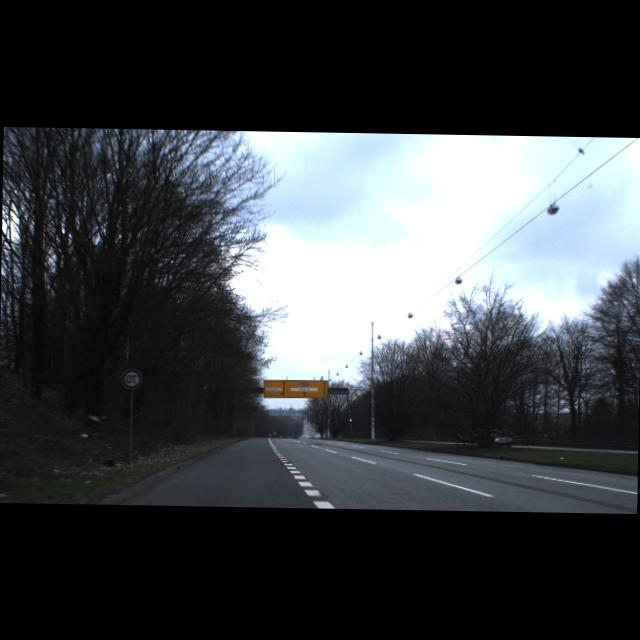prohibitory: (121, 368, 142, 389)
